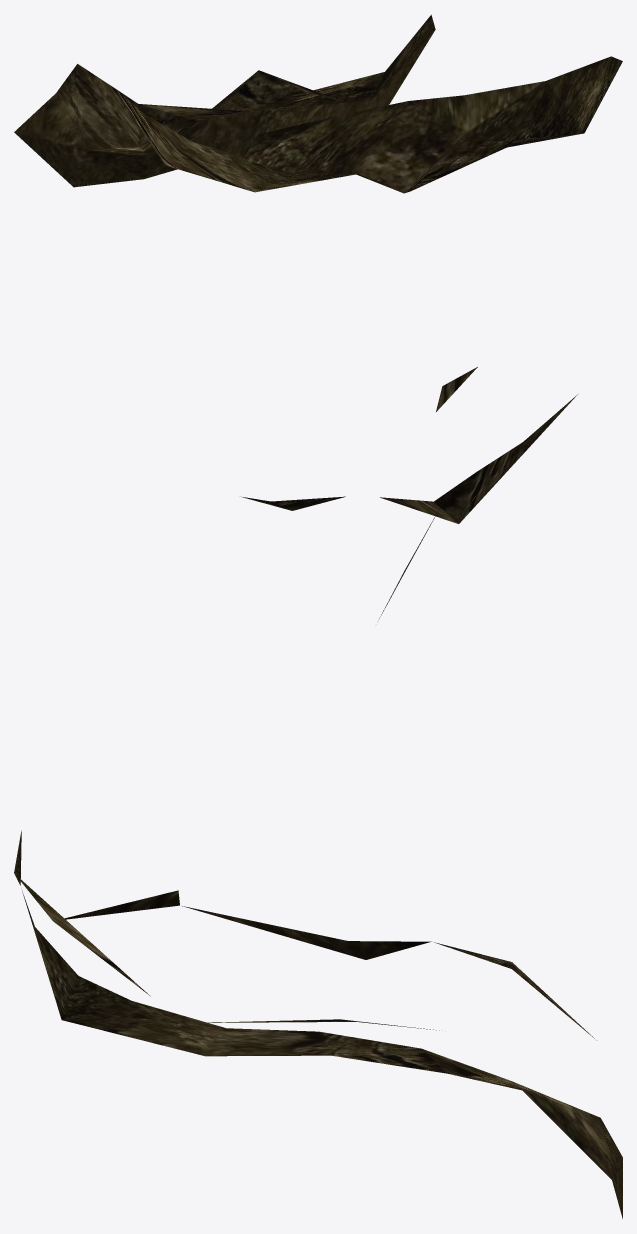
3 views of the same model, one above another, from view 1: azimuth 30°, elevation 25°; view 2: azimuth 150°, elevation 25°; view 3: azimuth 270°, elevation 25° (orthographic). The views are drawn at different scales.
Visible parts, largest first — view 1: model_object03; view 2: model_object03; view 3: model_object03.
Part boxes in pixels (box(x1,y1,x2,y2)): model_object03: box(14, 14, 622, 193); model_object03: box(241, 367, 577, 618); model_object03: box(14, 830, 622, 1218).
Bounding box in the file's own units: 4.63 × 2.64 × 4.5.
1 material, 1 textured.
